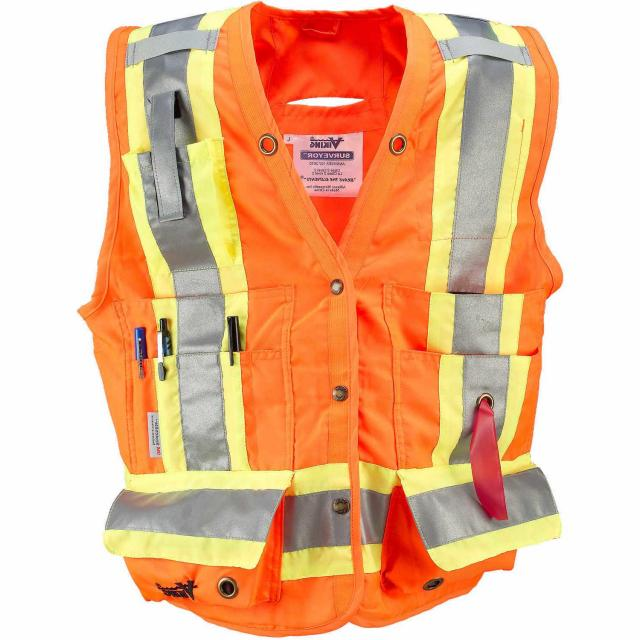Reflective-Jacket: (21, 0, 602, 640)
